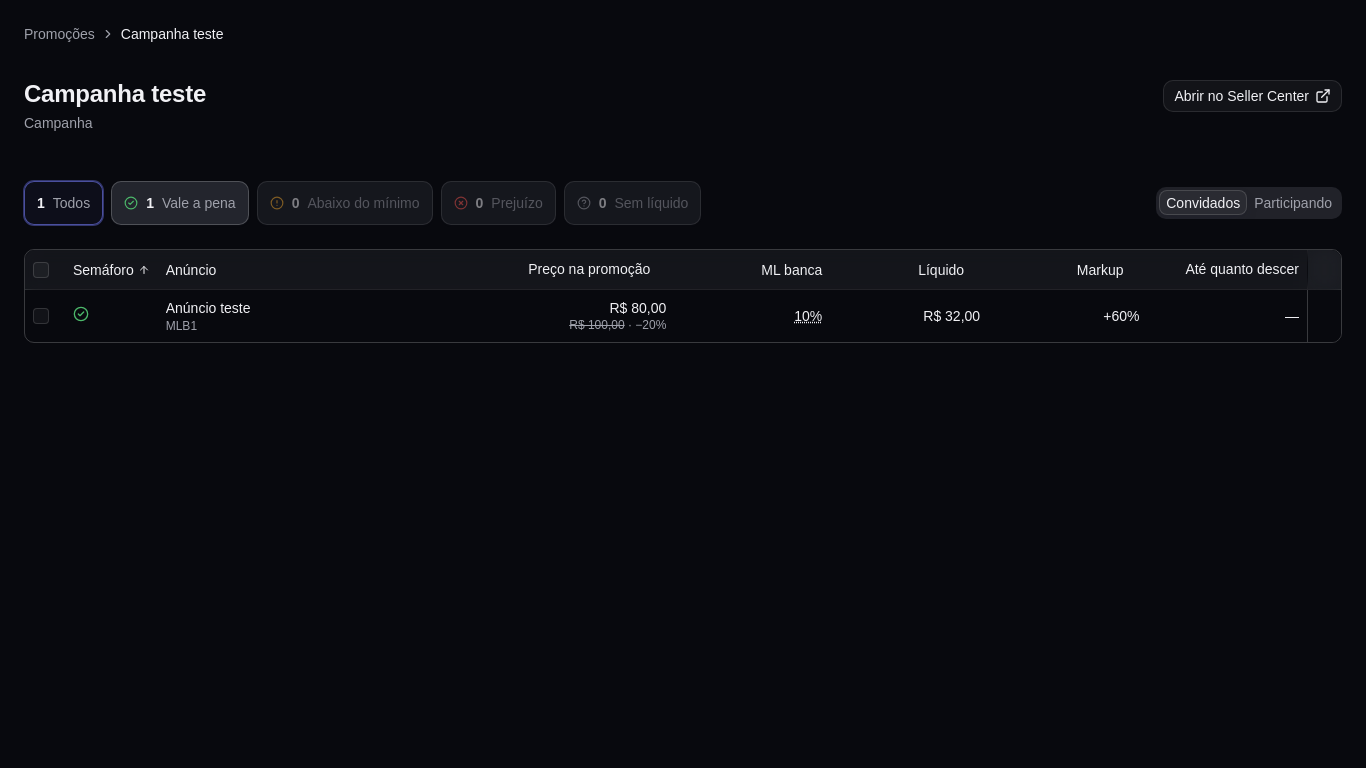
Test case: PromocaoDetalhe › seleciona convidado e participando em abas diferentes e abre o preview de Aderir
Click the checkbox named "Selecionar MLB1". click: click(41, 316)
box: [33, 308, 49, 324]
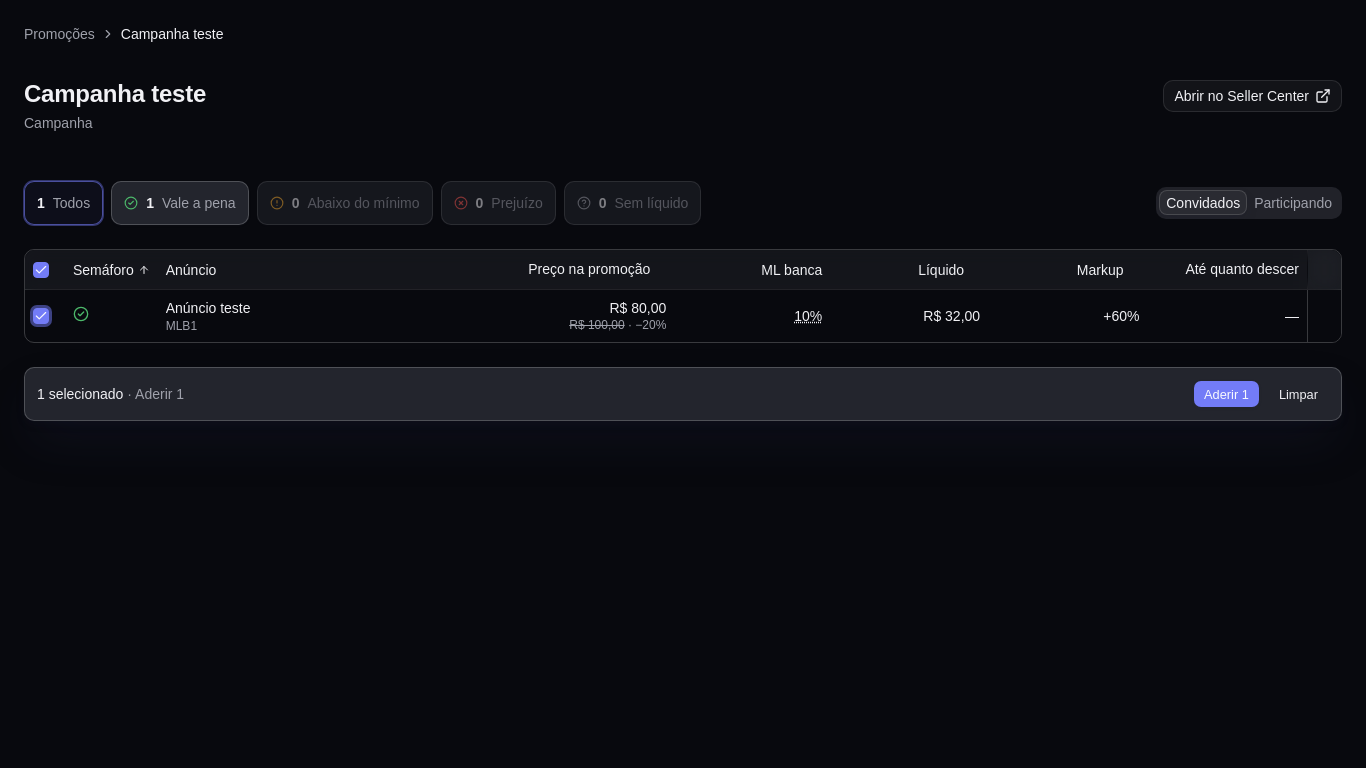
Click the tab "Participando". click: click(1293, 203)
box: [1247, 190, 1339, 215]
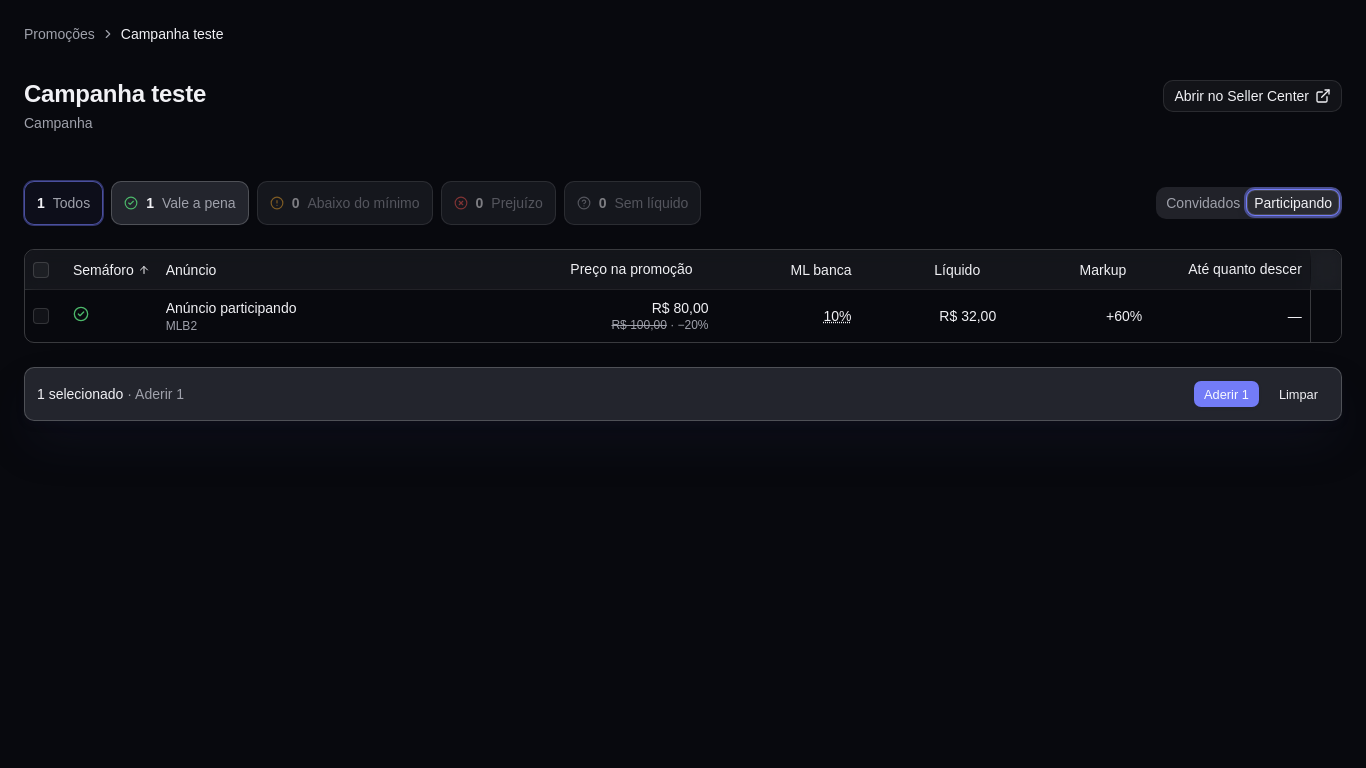
Click the checkbox named "Selecionar MLB2". click: click(41, 316)
box: [33, 308, 49, 324]
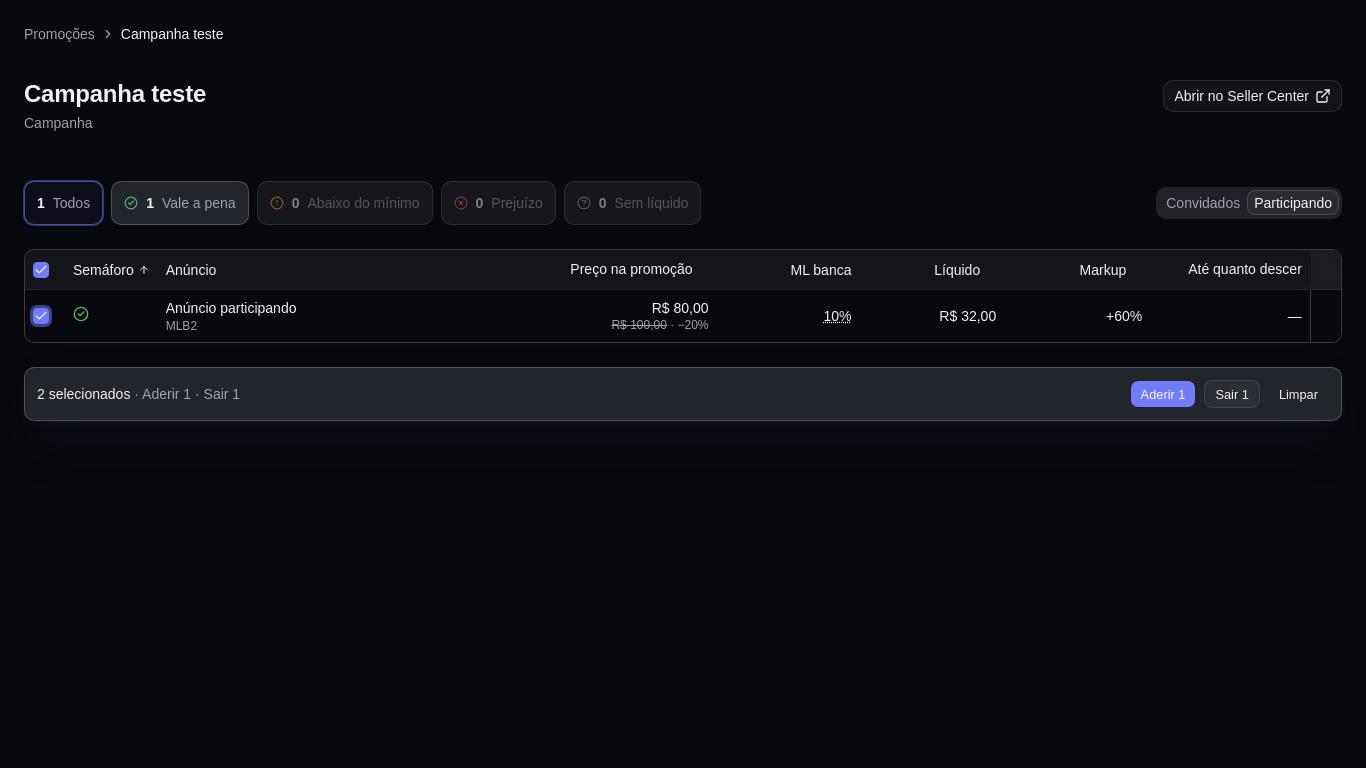
Expected: the button "Aderir 1" is shown
Expected: the button "Sair 1" is shown, [1204, 380, 1260, 408]
Click the button "Aderir 1". click: click(1163, 394)
box: [1130, 380, 1196, 408]
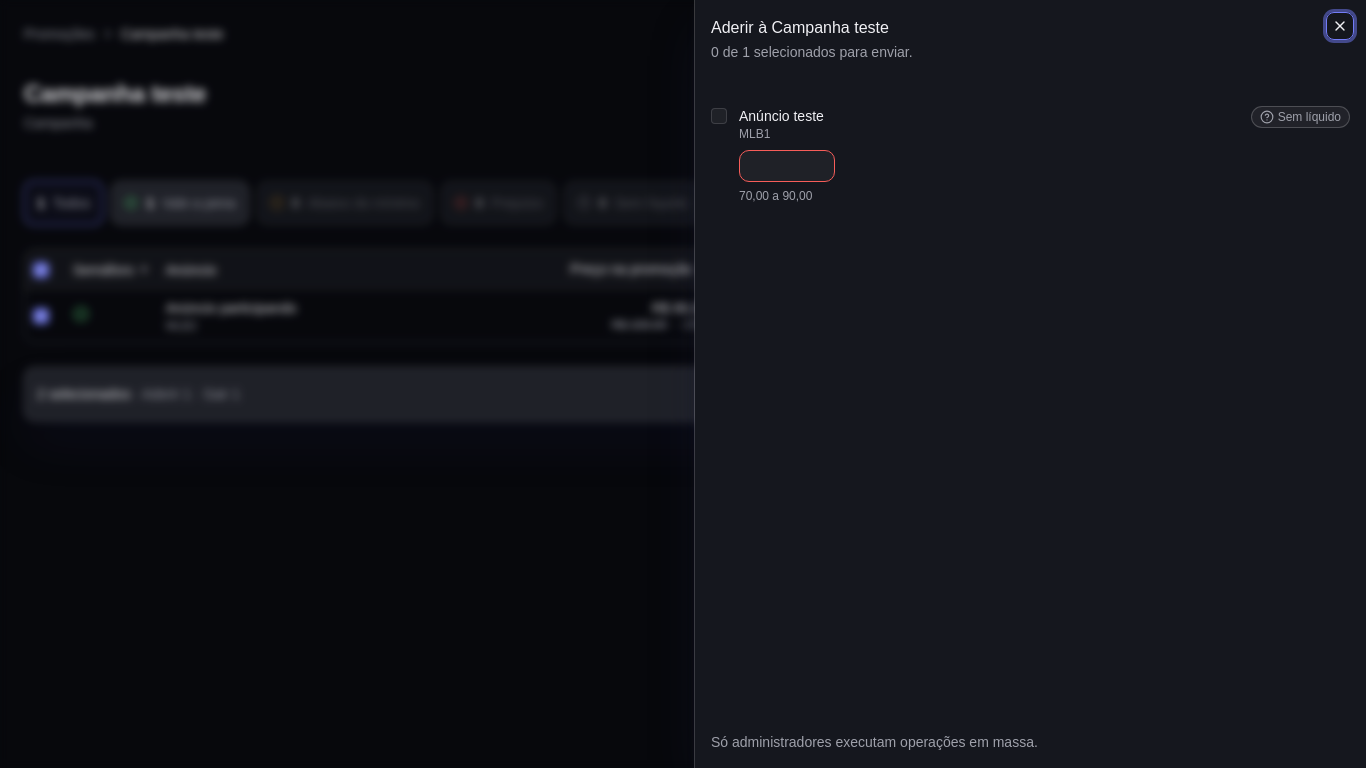
Expected: the heading "Aderir à Campanha teste" is shown, [711, 19, 889, 36]
